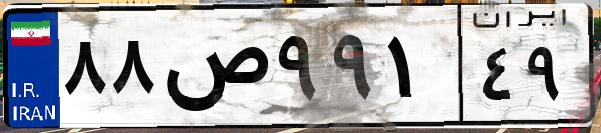1: (385, 28, 445, 110)
4: (475, 38, 525, 113)
8: (57, 26, 110, 100), (110, 28, 158, 98)
9: (270, 28, 330, 110), (330, 28, 385, 110), (525, 38, 570, 115)
ص: (158, 20, 270, 120)
